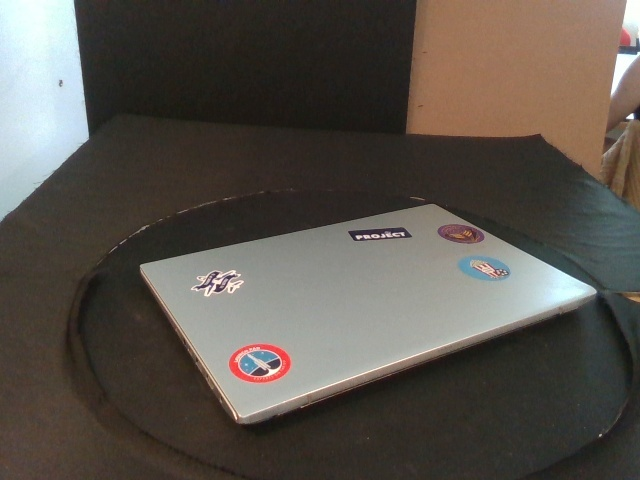laptop: (138, 202, 598, 426)
